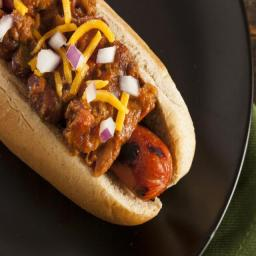hotdog: (0, 0, 197, 227)
